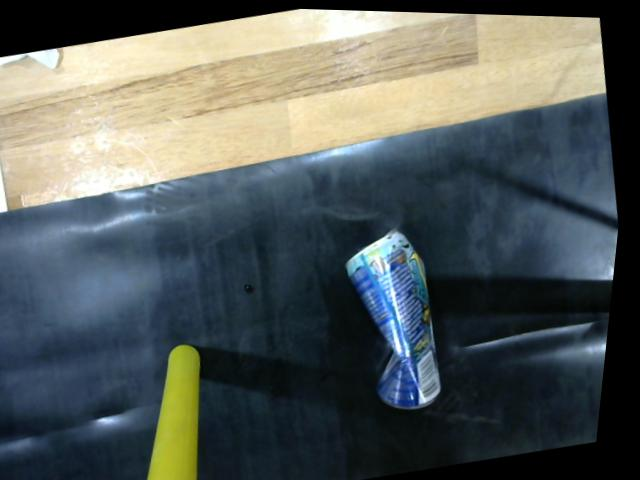can: (340, 221, 455, 411)
